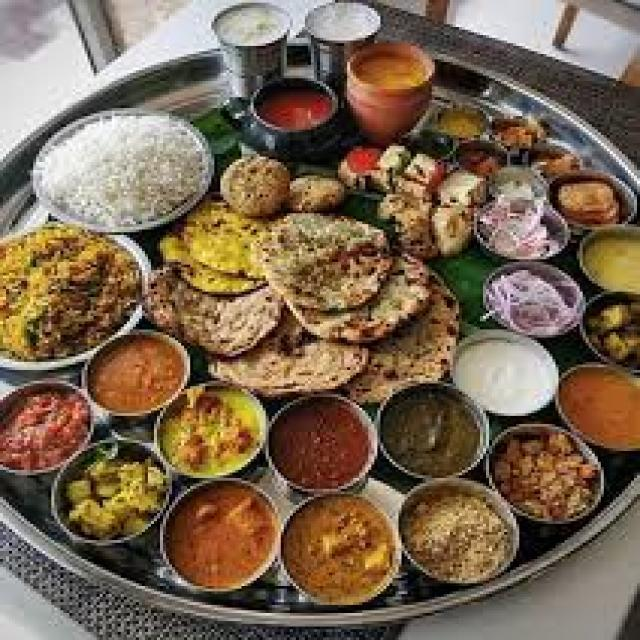curd: (451, 330, 567, 421)
dal: (572, 224, 640, 291)
raita: (213, 2, 296, 54)
rice: (27, 113, 218, 231)
roti: (200, 201, 399, 381)
sambar-rasam: (553, 364, 640, 454)
veg: (169, 484, 282, 596)
